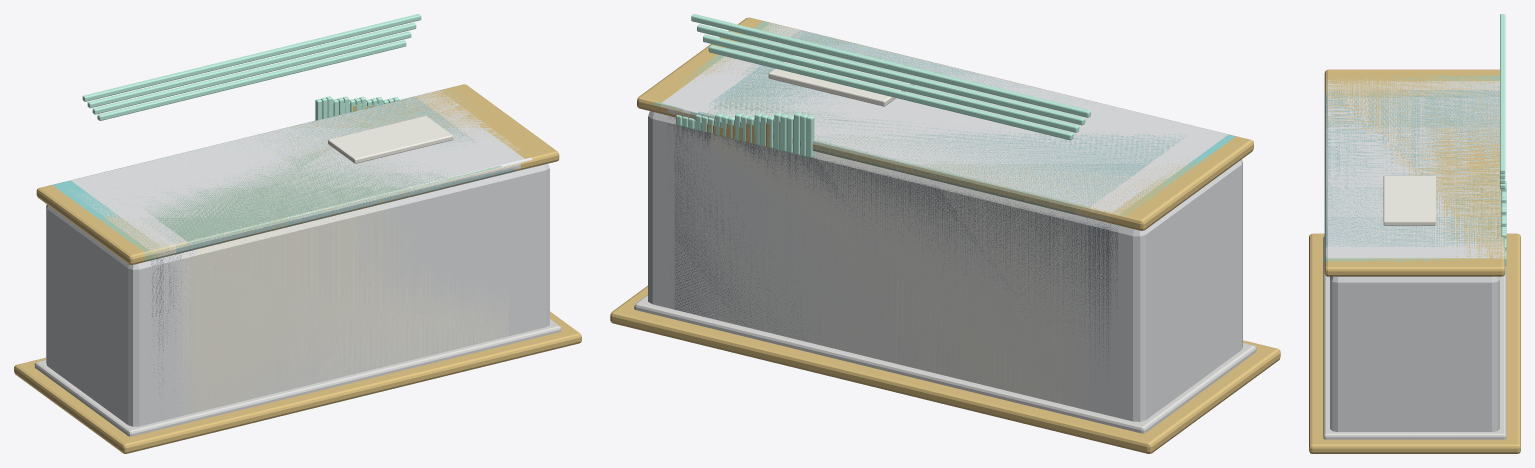
Rendered from Gear02.fbx.
3 renders of one model, left to right at view 1: azimuth 30°, elevation 25°; view 2: azimuth 150°, elevation 25°; view 3: azimuth 270°, elevation 25°, orthographic. The views are drawn at different scales.
Parts seen in each view (by area): view 1: Gear02_V10_Platinum, Gear02_V5_Platinum, Gear02_V2_Ivory, Gear02_V4_Platinum, Gear02_V10_Gold, Gear02_V1_Ivory, Gear02_V4_Linen, Gear02_V1_Sage, Gear02_V3_Linen, Gear02_V9_Gold, Gear02_V2_Blue, Gear02_V10_Chrome (+17 smaller); view 2: Gear02_V10_Platinum, Gear02_V9_Platinum, Gear02_V1_Ivory, Gear02_V10_Gold, Gear02_V4_Platinum, Gear02_V4_Linen, Gear02_V7_Graphite, Gear02_V6_Platinum, Gear02_V3_Blue, Gear02_V7_Platinum, Gear02_V9_Gold, Gear02_V1_Sage (+16 smaller); view 3: Gear02_V10_Platinum, Gear02_V7_Platinum, Gear02_V9_Gold, Gear02_V10_Gold, Gear02_V3_Blue, Gear02_V6_Platinum, Gear02_V2_Blue, Gear02_V5_Platinum, Gear02_V1_Sage, Gear02_V4_Platinum, Gear02_V10_Linen, Gear02_V8_Chrome (+10 smaller).
Part boxes in pixels (bbox=[...]): Gear02_V10_Platinum: bbox=[46, 163, 549, 426]; Gear02_V5_Platinum: bbox=[70, 92, 525, 405]; Gear02_V2_Ivory: bbox=[189, 198, 475, 413]; Gear02_V4_Platinum: bbox=[79, 93, 520, 254]; Gear02_V10_Gold: bbox=[14, 84, 581, 453]; Gear02_V1_Ivory: bbox=[194, 199, 416, 412]; Gear02_V4_Linen: bbox=[176, 141, 508, 415]; Gear02_V1_Sage: bbox=[146, 107, 501, 250]; Gear02_V3_Linen: bbox=[182, 200, 501, 414]; Gear02_V9_Gold: bbox=[37, 87, 571, 452]; Gear02_V2_Blue: bbox=[182, 96, 477, 252]; Gear02_V10_Chrome: bbox=[34, 319, 561, 436]; Gear02_V10_Platinum: bbox=[648, 111, 1242, 421]; Gear02_V9_Platinum: bbox=[660, 114, 1126, 419]; Gear02_V1_Ivory: bbox=[718, 145, 1067, 405]; Gear02_V10_Gold: bbox=[610, 17, 1280, 453]; Gear02_V4_Platinum: bbox=[682, 28, 1206, 219]; Gear02_V4_Linen: bbox=[697, 141, 1088, 410]; Gear02_V7_Graphite: bbox=[674, 123, 1111, 393]; Gear02_V6_Platinum: bbox=[668, 25, 1208, 331]; Gear02_V3_Blue: bbox=[690, 30, 1186, 216]; Gear02_V7_Platinum: bbox=[660, 23, 1228, 224]; Gear02_V9_Gold: bbox=[619, 19, 1242, 434]; Gear02_V1_Sage: bbox=[705, 34, 1127, 214]; Gear02_V10_Platinum: bbox=[1330, 276, 1499, 431]; Gear02_V7_Platinum: bbox=[1325, 78, 1504, 259]; Gear02_V9_Gold: bbox=[1309, 72, 1520, 443]; Gear02_V10_Gold: bbox=[1309, 69, 1520, 453]; Gear02_V3_Blue: bbox=[1324, 90, 1504, 248]; Gear02_V6_Platinum: bbox=[1324, 81, 1505, 257]; Gear02_V2_Blue: bbox=[1324, 93, 1504, 245]; Gear02_V5_Platinum: bbox=[1325, 84, 1501, 252]; Gear02_V1_Sage: bbox=[1324, 95, 1504, 242]; Gear02_V4_Platinum: bbox=[1327, 87, 1504, 250]; Gear02_V10_Linen: bbox=[1383, 182, 1435, 225]; Gear02_V8_Chrome: bbox=[1323, 242, 1506, 429].
Size of the model in its own units: 193 by 108 by 81.
